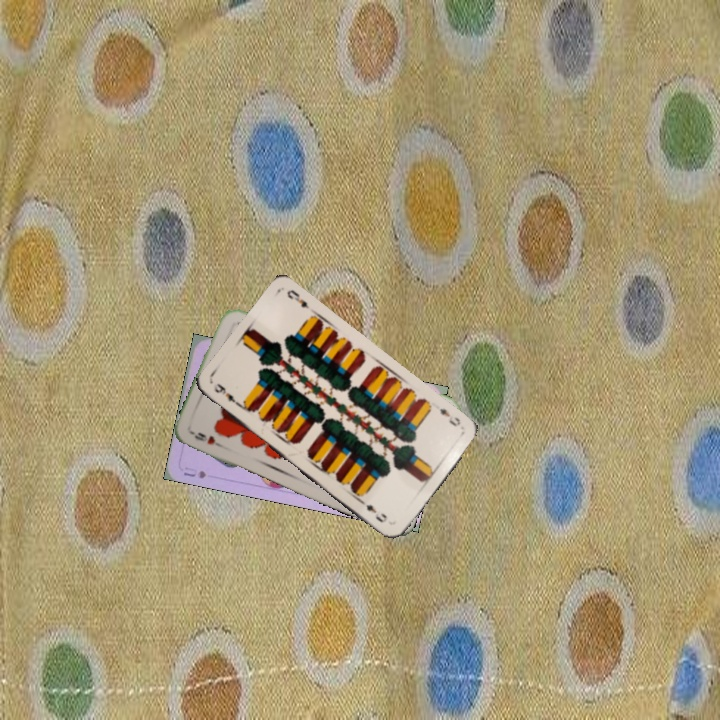E9: (209, 379, 244, 410), (435, 404, 463, 429)
H9: (187, 427, 226, 450)
SU: (180, 463, 209, 481)
